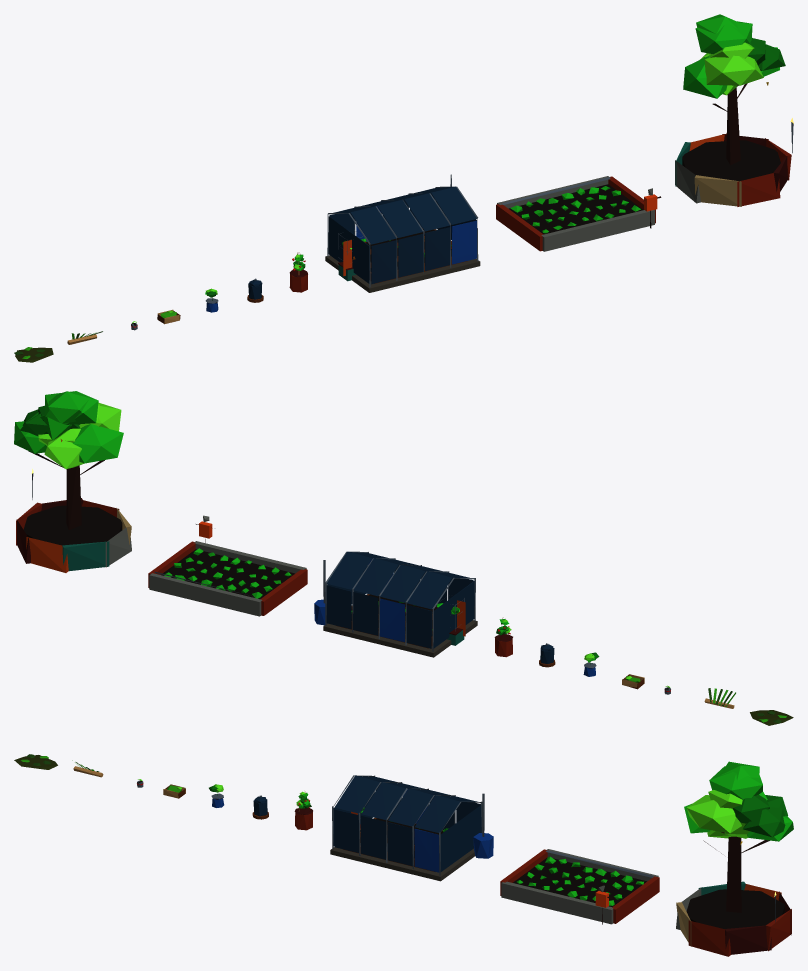
Rendered from tb_flora_kit.three-web-toon.lod50.glb.
3 views of the same model, one above another, from view 1: azimuth 30°, elevation 25°; view 2: azimuth 150°, elevation 25°; view 3: azimuth 330°, elevation 25° (orthographic).
Parts seen in each view (by area): view 1: last_tree_lod, greenhouse_lod, garden_plot_lod; view 2: last_tree_lod, greenhouse_lod, garden_plot_lod; view 3: last_tree_lod, greenhouse_lod, garden_plot_lod, flora_fruit_lod, flora_algae_lod.
Boxes of the visible parts, <box> form: last_tree_lod: <box>675,14,793,206</box>; greenhouse_lod: <box>325,174,480,292</box>; garden_plot_lod: <box>496,176,661,251</box>; last_tree_lod: <box>14,391,131,572</box>; greenhouse_lod: <box>314,551,477,657</box>; garden_plot_lod: <box>148,515,307,616</box>; last_tree_lod: <box>676,761,793,956</box>; greenhouse_lod: <box>330,775,493,881</box>; garden_plot_lod: <box>500,849,659,924</box>; flora_fruit_lod: <box>294,791,312,830</box>; flora_algae_lod: <box>14,754,57,769</box>.
Bounding box in the file's own units: 44.49 × 8.98 × 5.59.
